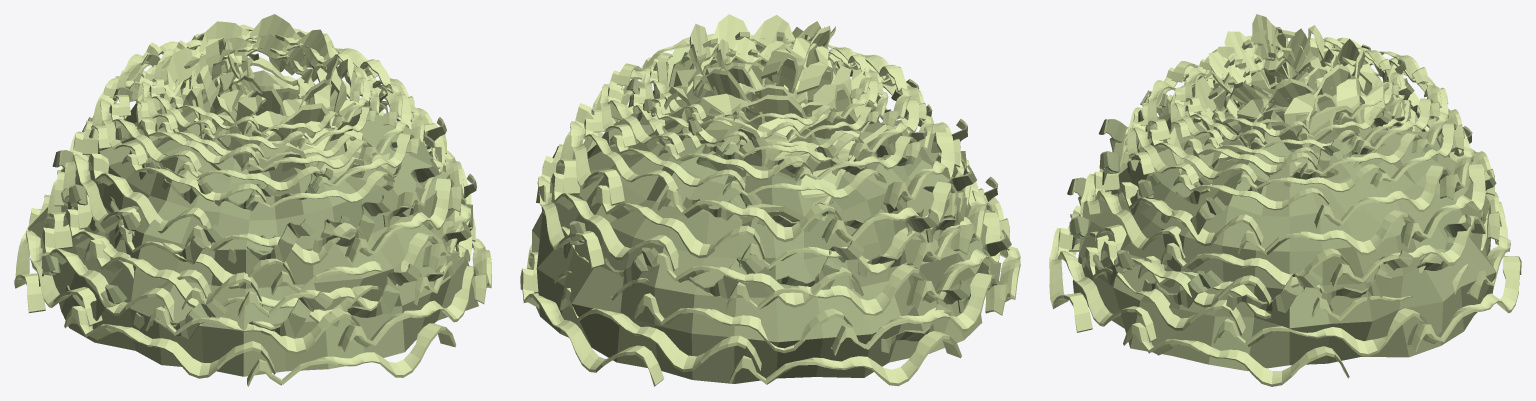
The model's file is Kyabets.fbx.
3 views of the same model, side by side, from view 1: azimuth 30°, elevation 25°; view 2: azimuth 150°, elevation 25°; view 3: azimuth 270°, elevation 25° (orthographic). The views are drawn at different scales.
Parts seen in each view (by area): view 1: Sphere, Plane, Plane.001, Plane.002, Plane.004, Plane.008, Plane.007, Plane.003, Plane.005, Plane.006; view 2: Sphere, Plane, Plane.001, Plane.008, Plane.002, Plane.004, Plane.003, Plane.007, Plane.005, Plane.006; view 3: Sphere, Plane.001, Plane, Plane.002, Plane.008, Plane.004, Plane.003, Plane.007, Plane.006, Plane.005.
Part boxes in pixels (bbox=[...]): Sphere: bbox=[28, 70, 478, 376]; Plane: bbox=[14, 166, 491, 386]; Plane.001: bbox=[54, 56, 472, 323]; Plane.002: bbox=[91, 28, 424, 208]; Plane.004: bbox=[30, 117, 476, 339]; Plane.008: bbox=[137, 14, 356, 176]; Plane.007: bbox=[120, 40, 389, 186]; Plane.003: bbox=[136, 39, 379, 161]; Plane.005: bbox=[89, 33, 402, 247]; Plane.006: bbox=[175, 34, 318, 148]; Sphere: bbox=[532, 84, 989, 383]; Plane: bbox=[520, 155, 1020, 386]; Plane.001: bbox=[537, 86, 984, 307]; Plane.008: bbox=[653, 14, 879, 170]; Plane.002: bbox=[584, 37, 933, 198]; Plane.004: bbox=[536, 71, 1011, 353]; Plane.003: bbox=[632, 33, 888, 150]; Plane.007: bbox=[649, 27, 915, 229]; Plane.005: bbox=[626, 67, 941, 232]; Plane.006: bbox=[689, 37, 823, 143]; Sphere: bbox=[1072, 71, 1496, 370]; Plane.001: bbox=[1078, 85, 1494, 307]; Plane: bbox=[1049, 151, 1521, 386]; Plane.002: bbox=[1127, 35, 1456, 210]; Plane.008: bbox=[1205, 14, 1401, 152]; Plane.004: bbox=[1067, 90, 1496, 313]; Plane.003: bbox=[1170, 33, 1411, 163]; Plane.007: bbox=[1162, 28, 1421, 194]; Plane.006: bbox=[1226, 39, 1365, 126]; Plane.005: bbox=[1127, 44, 1442, 204].
Size of the model in its own units: 1.37 by 0.8383 by 1.38.
